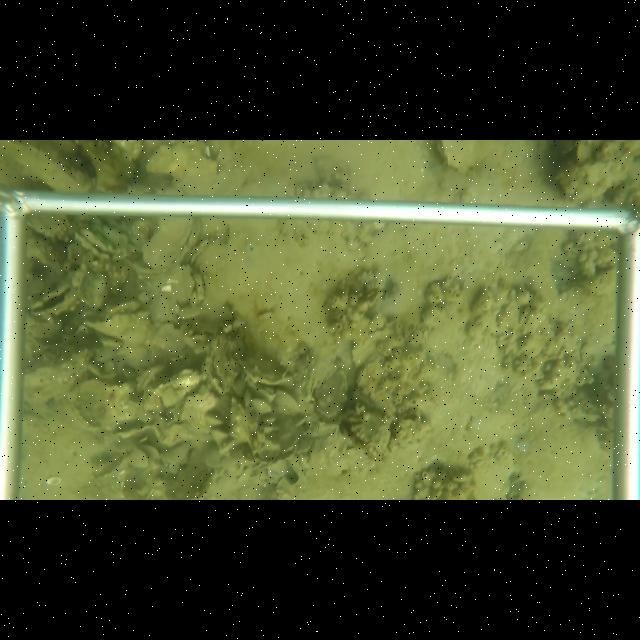Oyster-Closed: (139, 218, 201, 268), (436, 140, 486, 176), (137, 364, 163, 393)
Oyster-Open: (201, 334, 240, 397), (72, 226, 130, 262), (26, 280, 80, 318), (87, 447, 133, 489)
